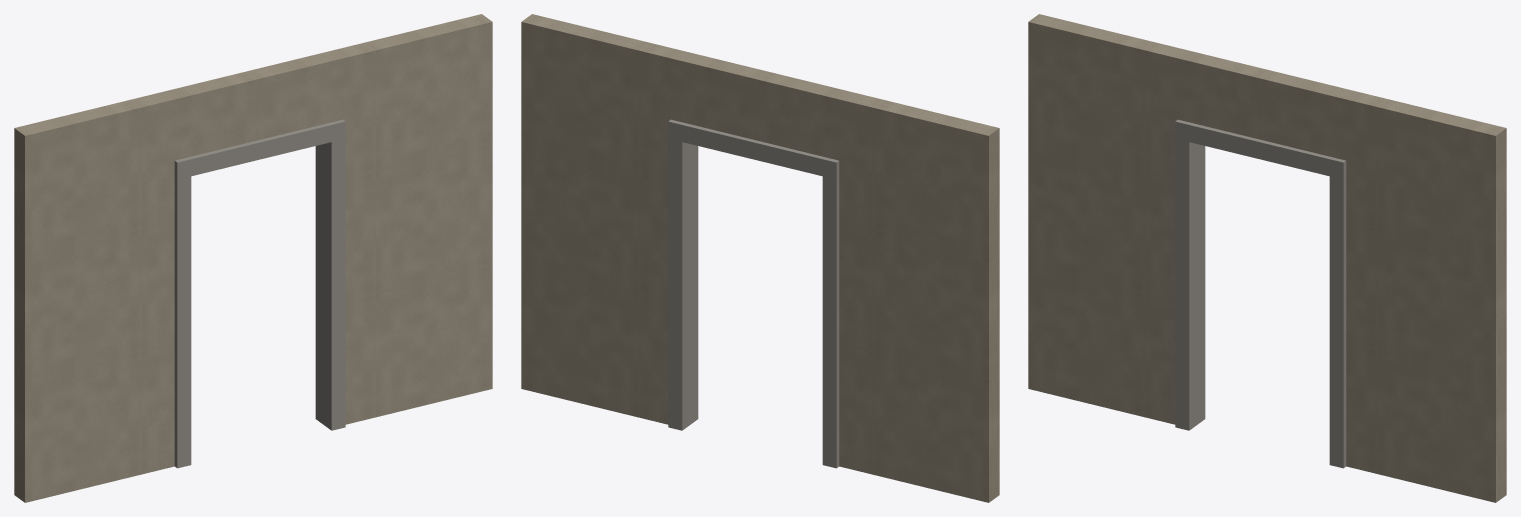
Rendered from door_frame.glb.
3 renders of one model, left to right at view 1: azimuth 30°, elevation 25°; view 2: azimuth 150°, elevation 25°; view 3: azimuth 330°, elevation 25°, orthographic.
Visible parts, largest first — view 1: DoorFrame; view 2: DoorFrame; view 3: DoorFrame.
Boxes of the visible parts, x1=… form: DoorFrame: x1=14, y1=14, x2=492, y2=502; DoorFrame: x1=521, y1=14, x2=999, y2=502; DoorFrame: x1=1028, y1=14, x2=1506, y2=502.
Bounding box in the file's own units: 4 × 3 × 0.24.
Materials: 2 (1 with a texture image).
